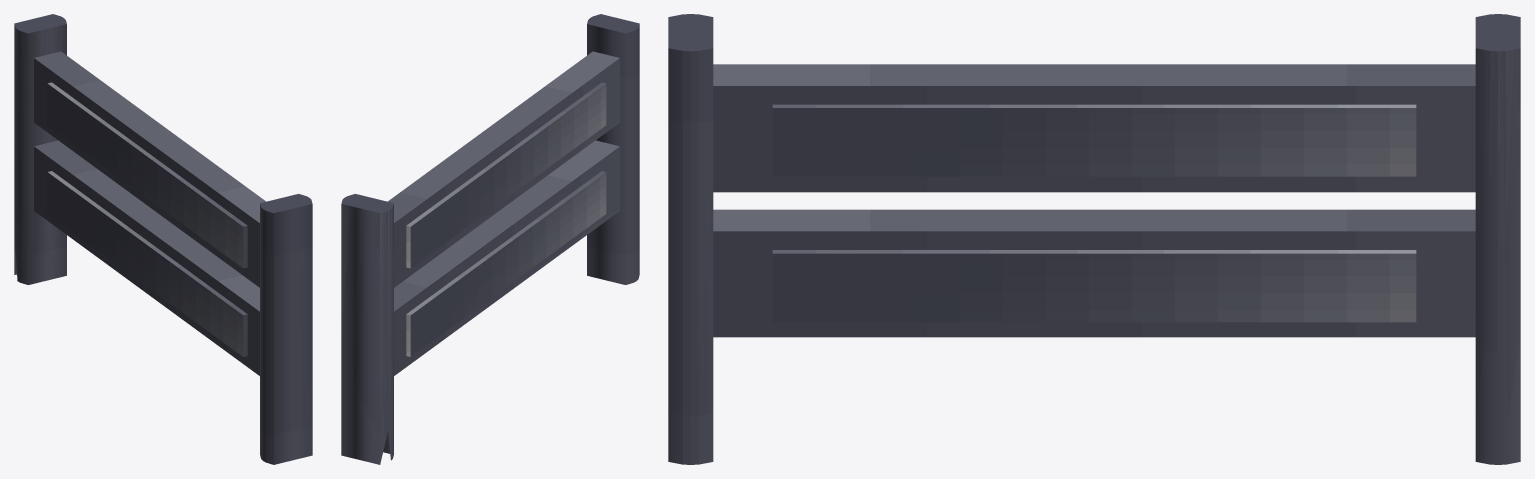
Rendered from barrier1.fbx.
3 renders of one model, left to right at view 1: azimuth 30°, elevation 25°; view 2: azimuth 150°, elevation 25°; view 3: azimuth 270°, elevation 25°, orthographic. The views are drawn at different scales.
Parts seen in each view (by area): view 1: Cube.003; view 2: Cube.003; view 3: Cube.003.
Boxes of the visible parts, x1,y1,x2,y2 form: Cube.003: (14,14,312,464); Cube.003: (341,14,639,464); Cube.003: (668,14,1520,464).
Bounding box in the file's own units: 51.28 × 265 × 495.
